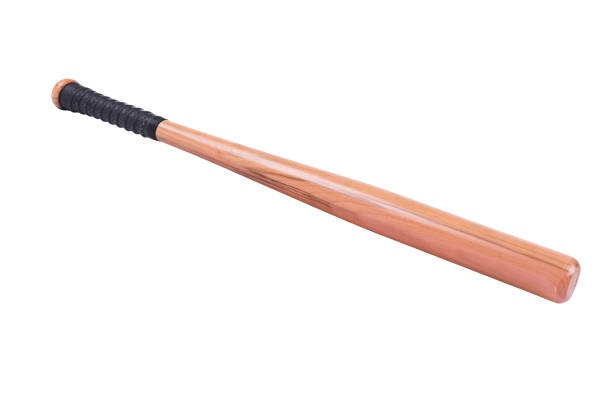bita: (57, 80, 581, 300)
